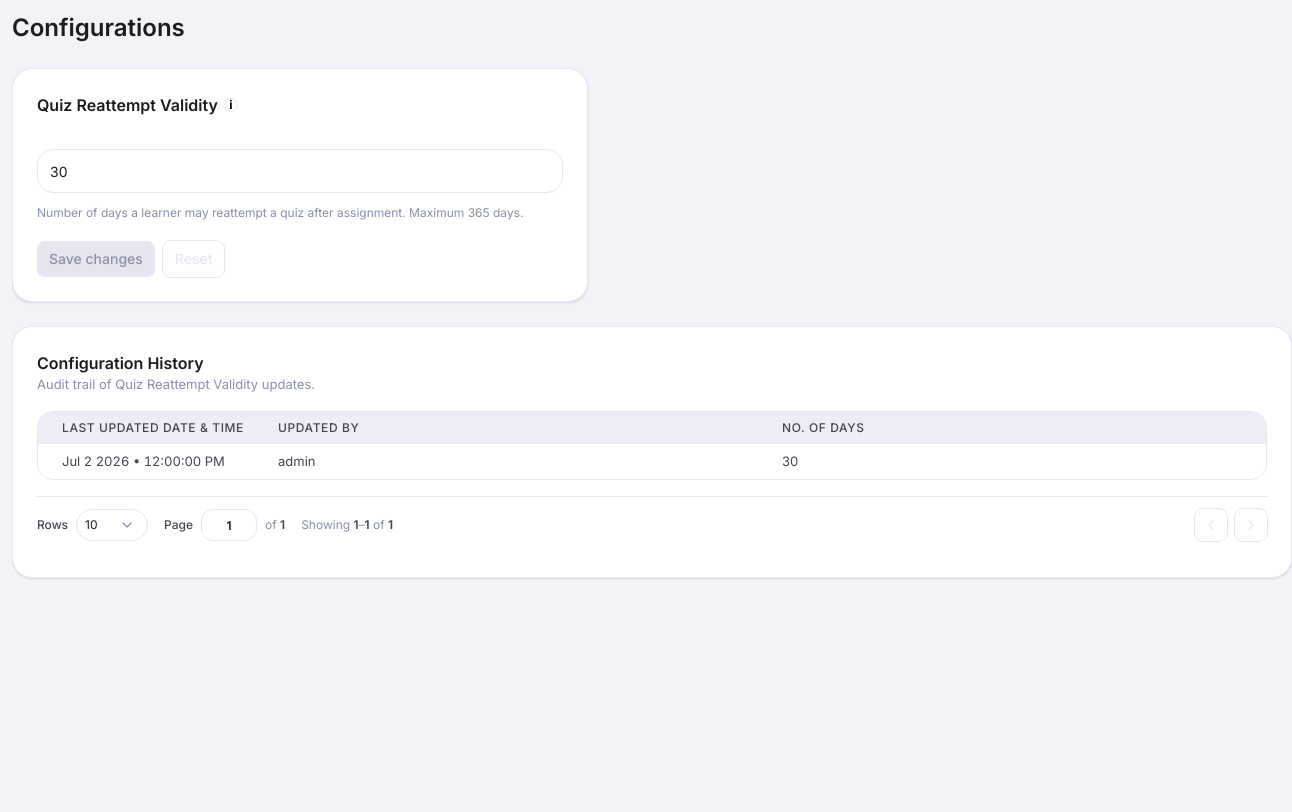
ConfigsPage configuration history › appends a new history row after a successful save
The width and height of the screenshot is (1292, 812).
Expected: the text "30" is shown, left=758, top=444, right=1266, bottom=479
Replace the text in the field named "quiz reattempt validity" with "45". click: {"x": 300, "y": 171}
box: left=37, top=149, right=563, bottom=193
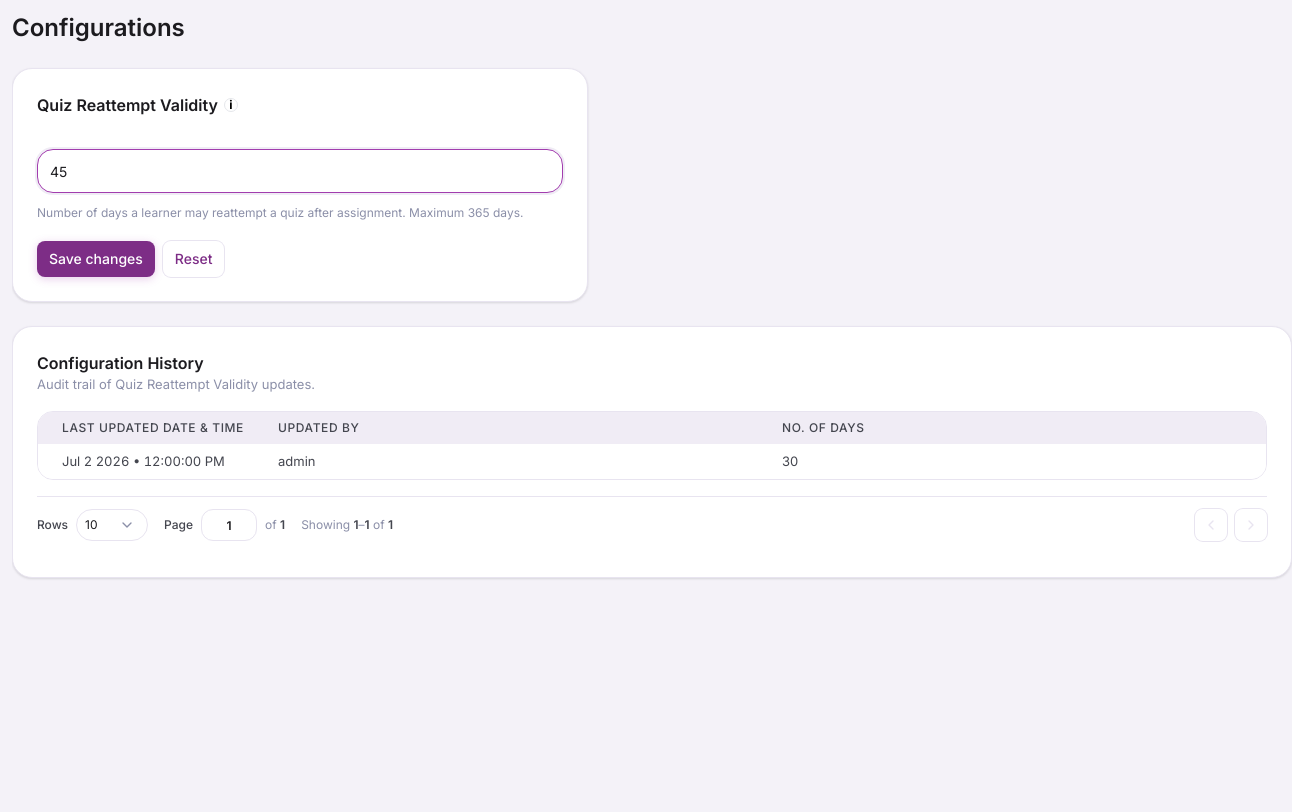
Click the button "Save changes". click: {"x": 96, "y": 259}
box: left=37, top=241, right=155, bottom=277
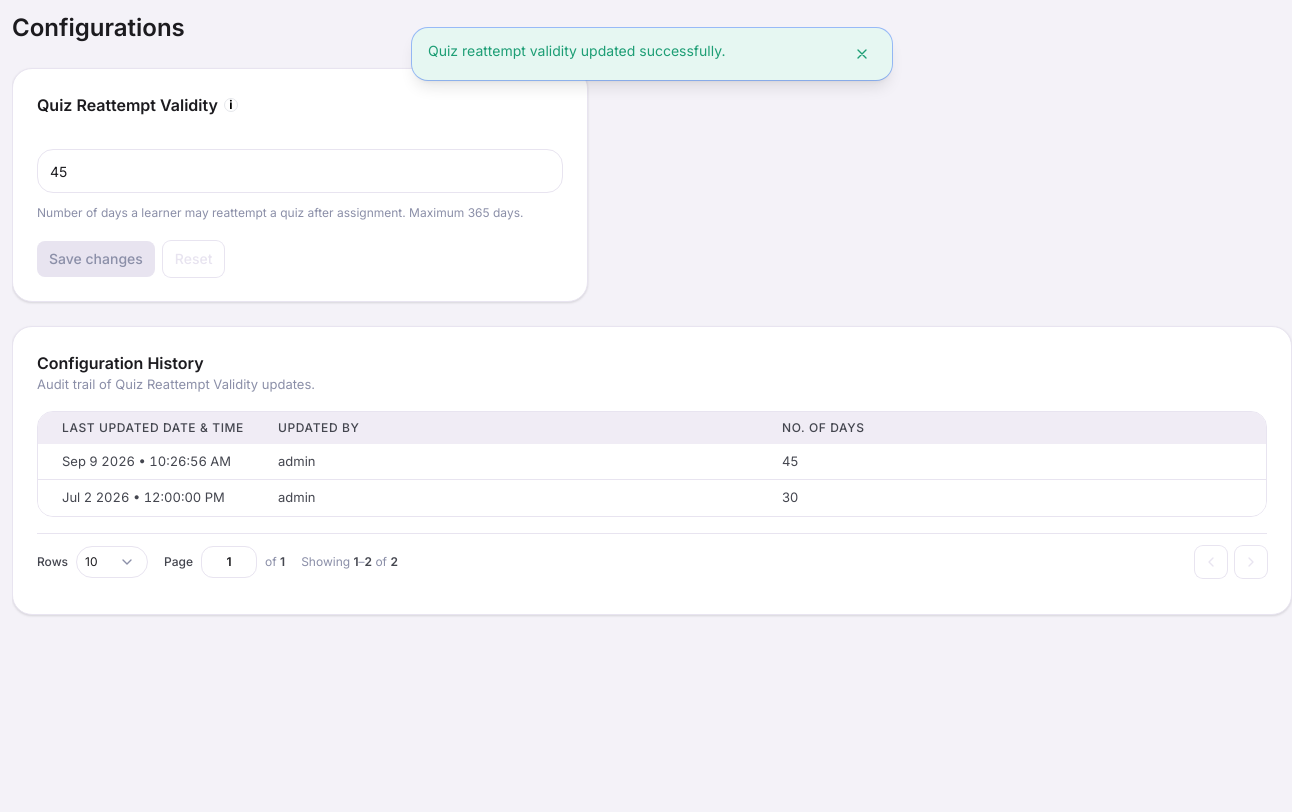
Expected: the text "30" is shown, left=758, top=480, right=1266, bottom=516
Result: the message reads "Quiz reattempt validity updated successfully." at left=428, top=42, right=726, bottom=59
Result: the text "45" is shown at left=758, top=444, right=1266, bottom=480
